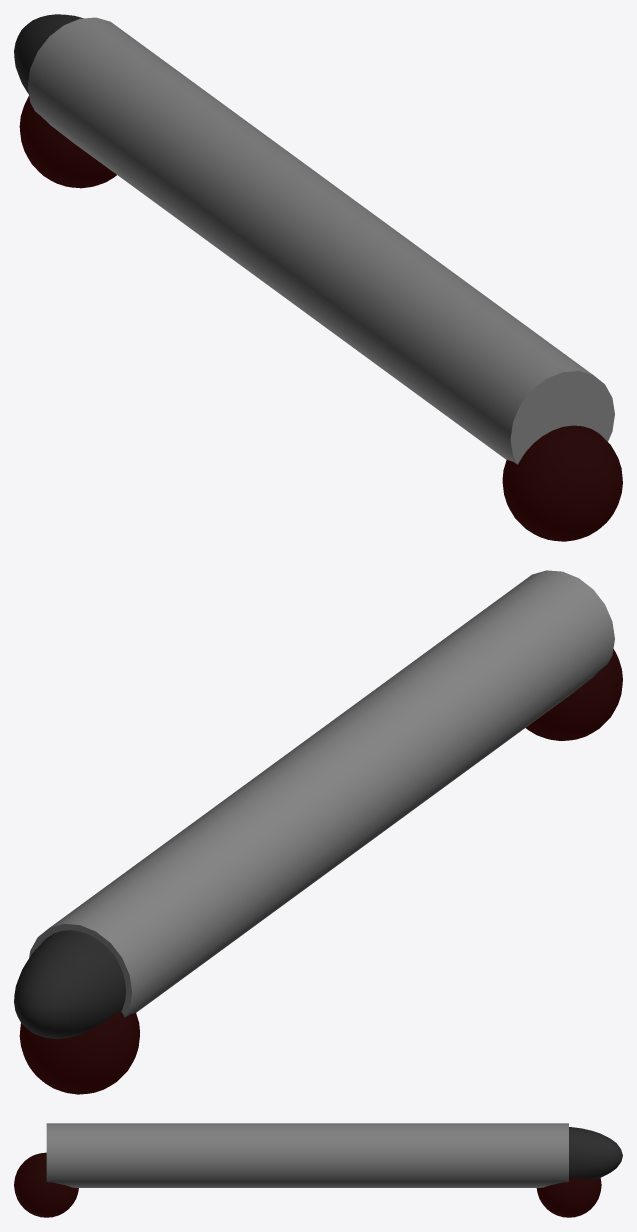
File: Pencil.fbx
3 renders of one model, top to bottom at view 1: azimuth 30°, elevation 25°; view 2: azimuth 150°, elevation 25°; view 3: azimuth 270°, elevation 25°, orthographic. The views are drawn at different scales.
Parts seen in each view (by area): view 1: Pencil_Model, BoundaryPoint__1_, BoundaryPoint, Pencil_Tip; view 2: Pencil_Model, Pencil_Tip, BoundaryPoint, BoundaryPoint__1_; view 3: Pencil_Model, BoundaryPoint__1_, Pencil_Tip, BoundaryPoint.
Part boxes in pixels (<box>): Pencil_Model: <box>27,17,614,464</box>; BoundaryPoint__1_: <box>502,425,622,541</box>; BoundaryPoint: <box>19,96,116,188</box>; Pencil_Tip: <box>14,14,83,94</box>; Pencil_Model: <box>29,570,614,1017</box>; Pencil_Tip: <box>14,930,125,1038</box>; BoundaryPoint: <box>19,1011,139,1094</box>; BoundaryPoint__1_: <box>526,649,622,740</box>; Pencil_Model: <box>46,1123,568,1187</box>; BoundaryPoint__1_: <box>14,1152,78,1217</box>; Pencil_Tip: <box>569,1127,622,1179</box>; BoundaryPoint: <box>536,1177,601,1217</box>.
Size of the model in its own units: 10 by 15 by 93.27.
